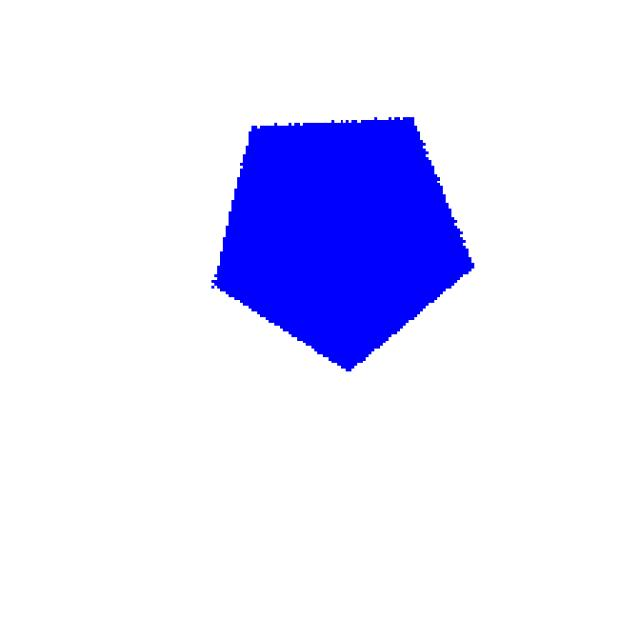Pentagon: (177, 71, 480, 380)
